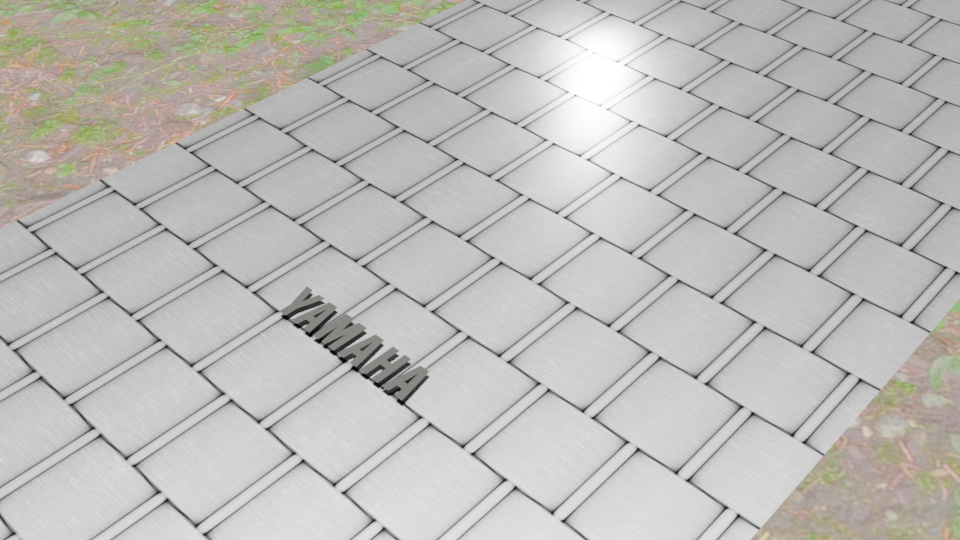yamaha_letters: (279, 286, 429, 401)
